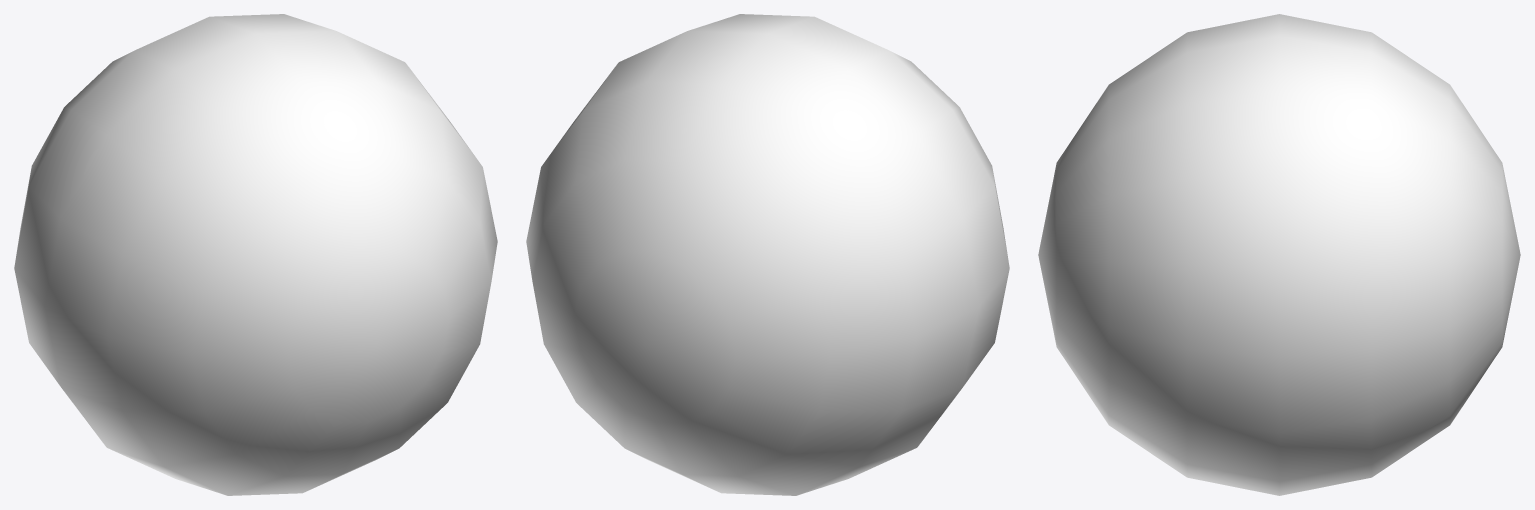
Rendered from eye (1).glb.
The picture shows the model from 3 angles, left to right: view 1: azimuth 30°, elevation 25°; view 2: azimuth 150°, elevation 25°; view 3: azimuth 270°, elevation 25°; orthographic projection.
Visible parts, largest first — view 1: Object_2; view 2: Object_2; view 3: Object_2.
Boxes of the visible parts, bbox=[...] form: Object_2: bbox=[14, 14, 497, 495]; Object_2: bbox=[526, 14, 1009, 495]; Object_2: bbox=[1038, 14, 1520, 495].
Size of the model in its own units: 2.04 by 2.04 by 2.04.
Materials: 2 (2 with a texture image).
